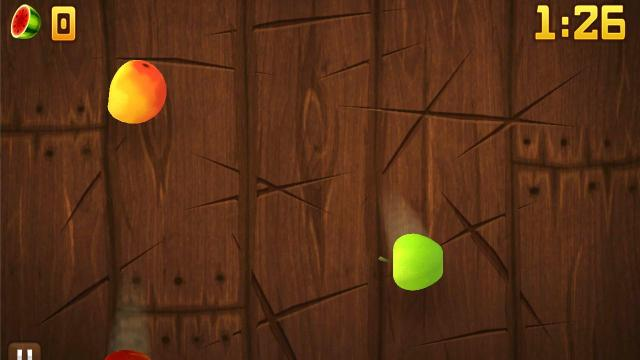fruit: (105, 57, 169, 126), (386, 230, 448, 294)
